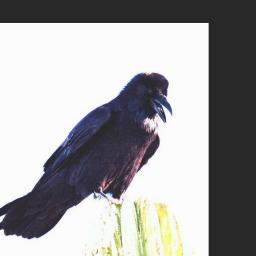Crow: (0, 72, 172, 240)
